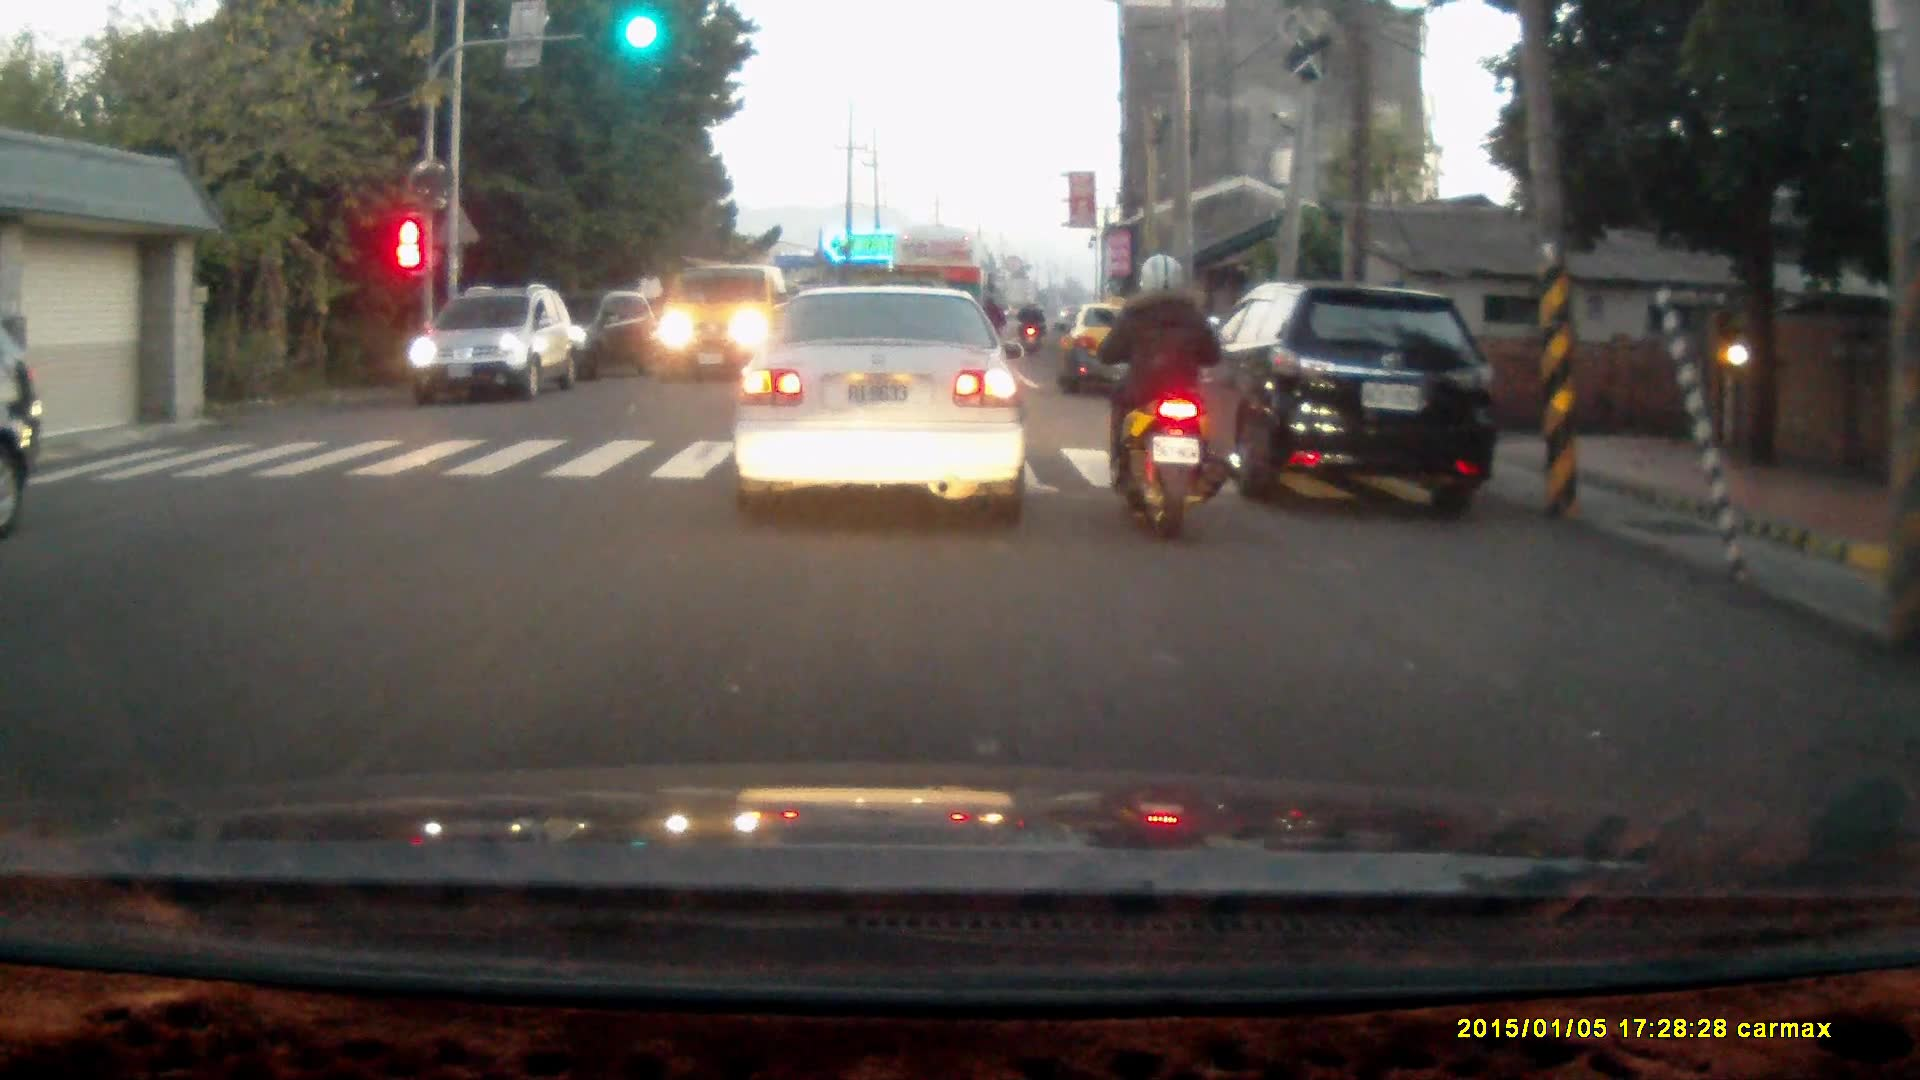rider: (1093, 248, 1227, 541)
vehicle: (1182, 275, 1509, 505), (732, 282, 1033, 519), (404, 277, 581, 407), (663, 260, 803, 375), (888, 223, 1000, 353), (523, 279, 659, 375), (1061, 295, 1175, 396), (1, 319, 49, 533)
